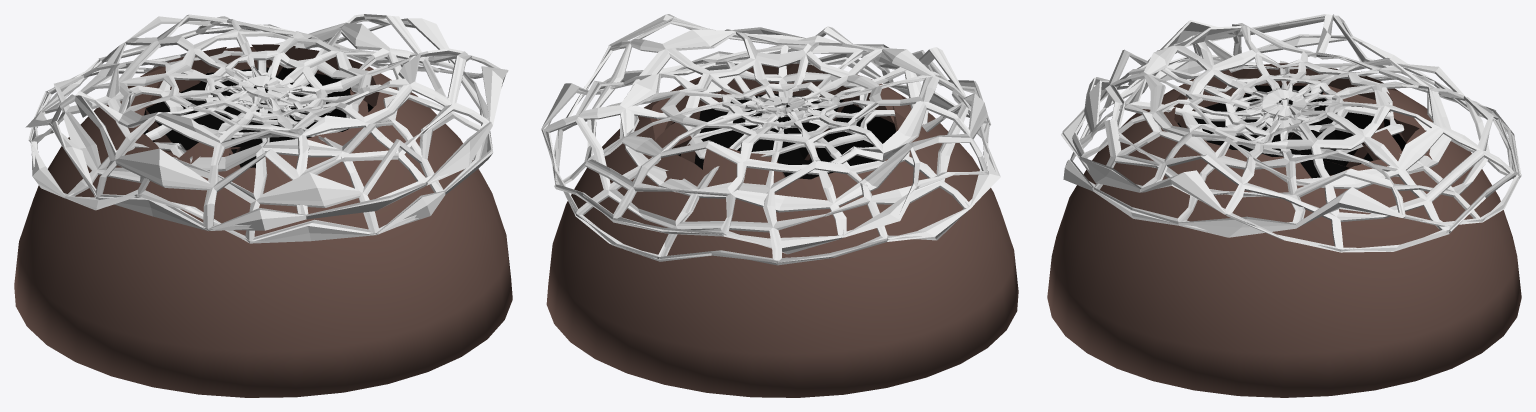
The model's file is BurstPipeFixedNormals.fbx.
3 views of the same model, side by side, from view 1: azimuth 30°, elevation 25°; view 2: azimuth 150°, elevation 25°; view 3: azimuth 270°, elevation 25° (orthographic). The views are drawn at different scales.
Parts seen in each view (by area): view 1: Web.001; view 2: Web.001; view 3: Web.001.
Part boxes in pixels (<box>): Web.001: <box>14,14,512,397</box>; Web.001: <box>541,14,1018,397</box>; Web.001: <box>1047,14,1521,397</box>.
Size of the model in its own units: 200 by 102 by 200.
